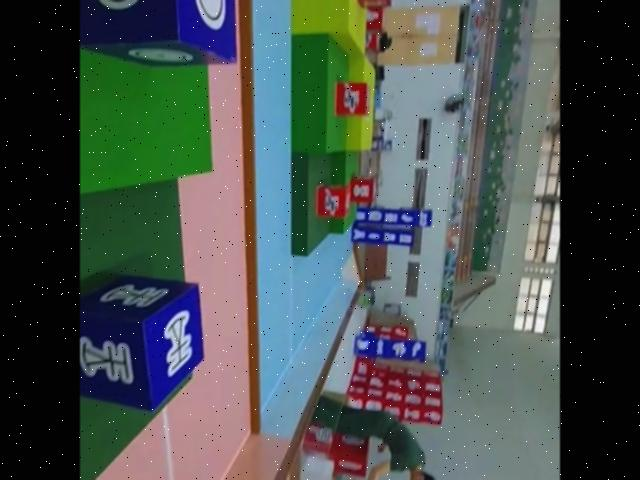R2 Real Blue: (80, 274, 202, 409), (80, 0, 239, 67)
